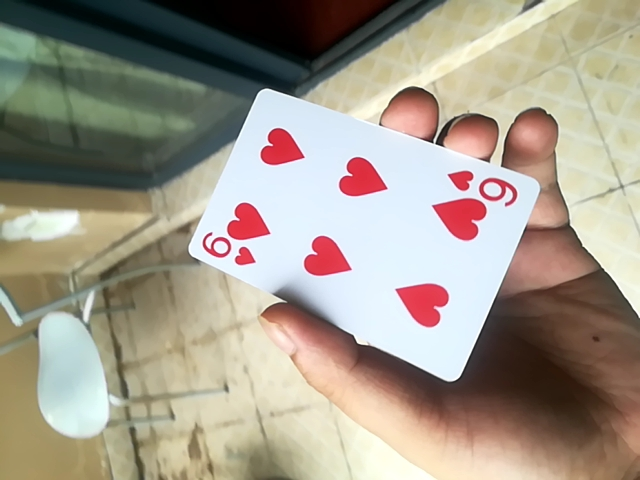hx 6: (186, 91, 535, 384)
